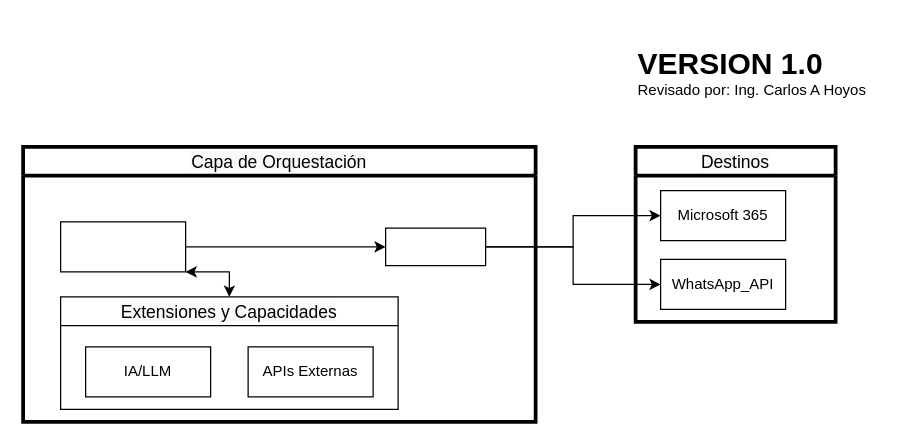
This 908x445 diagram has some shape labels left out. The shapes that lost their labels are listed below. From the top down, each one's centre as x and y in pixels, then its label:
At (x=122, y=246): "n8n".
At (x=435, y=246): "Nodo salida".
